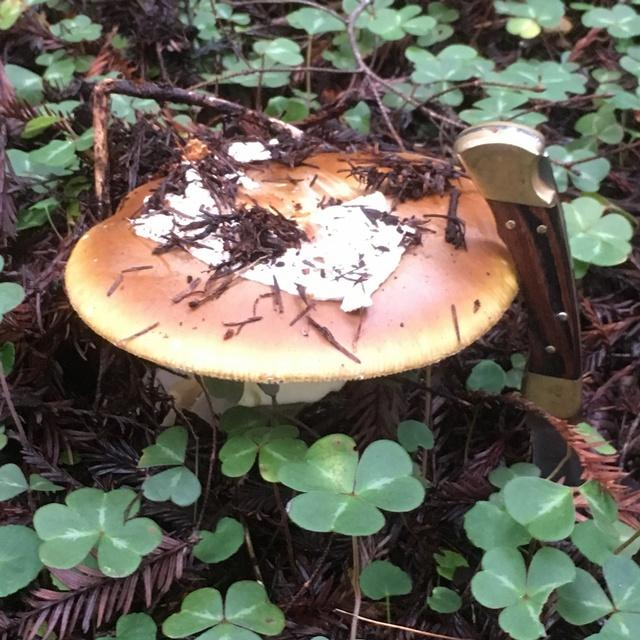Edible Mushroom: (62, 135, 521, 413)
